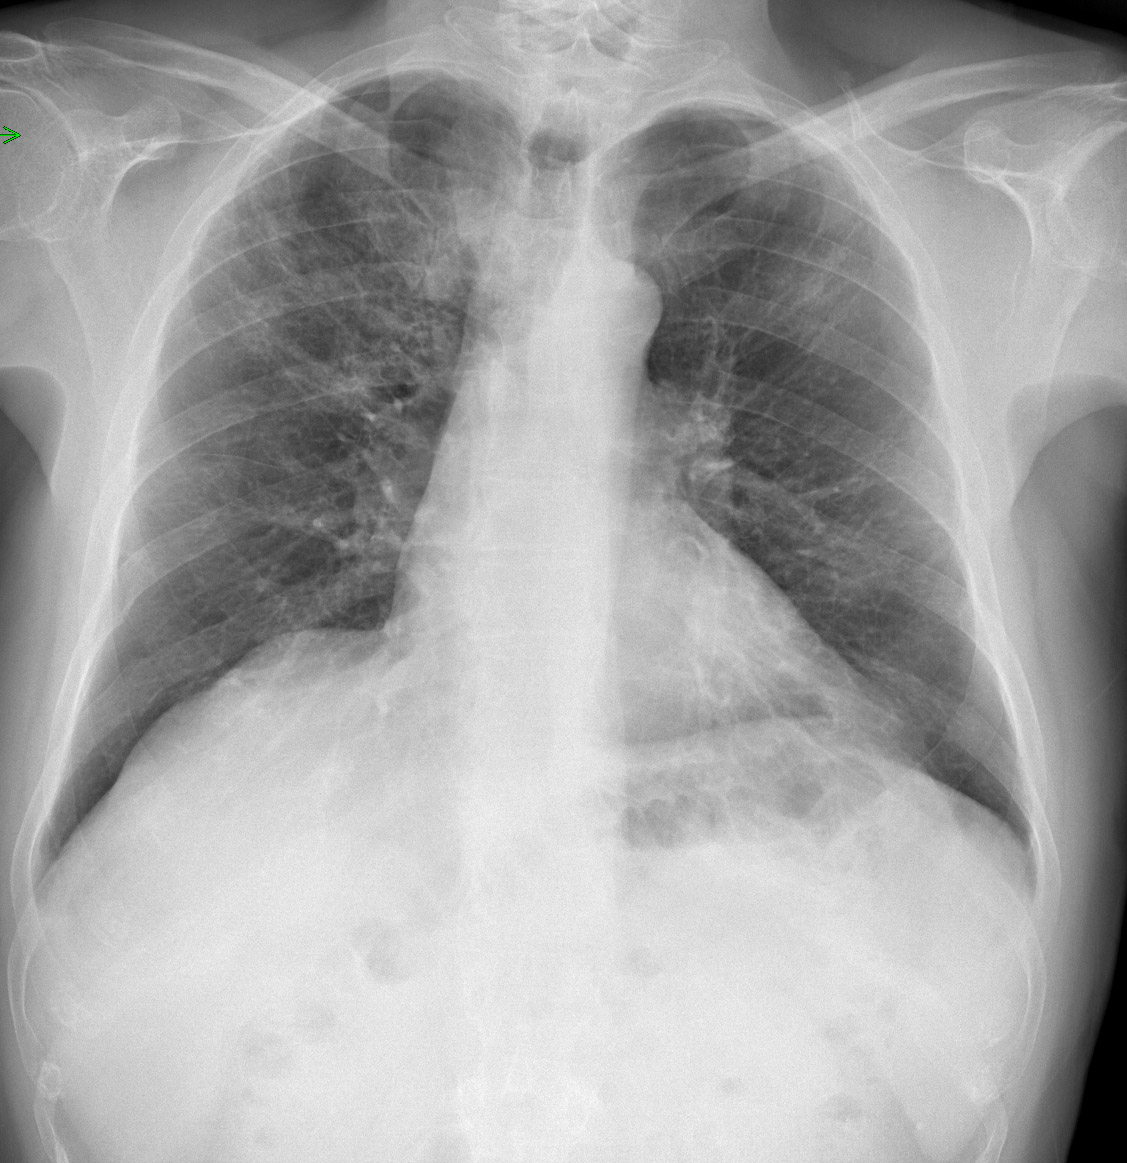Mildw: (38, 64, 520, 907), (620, 110, 1022, 827)
